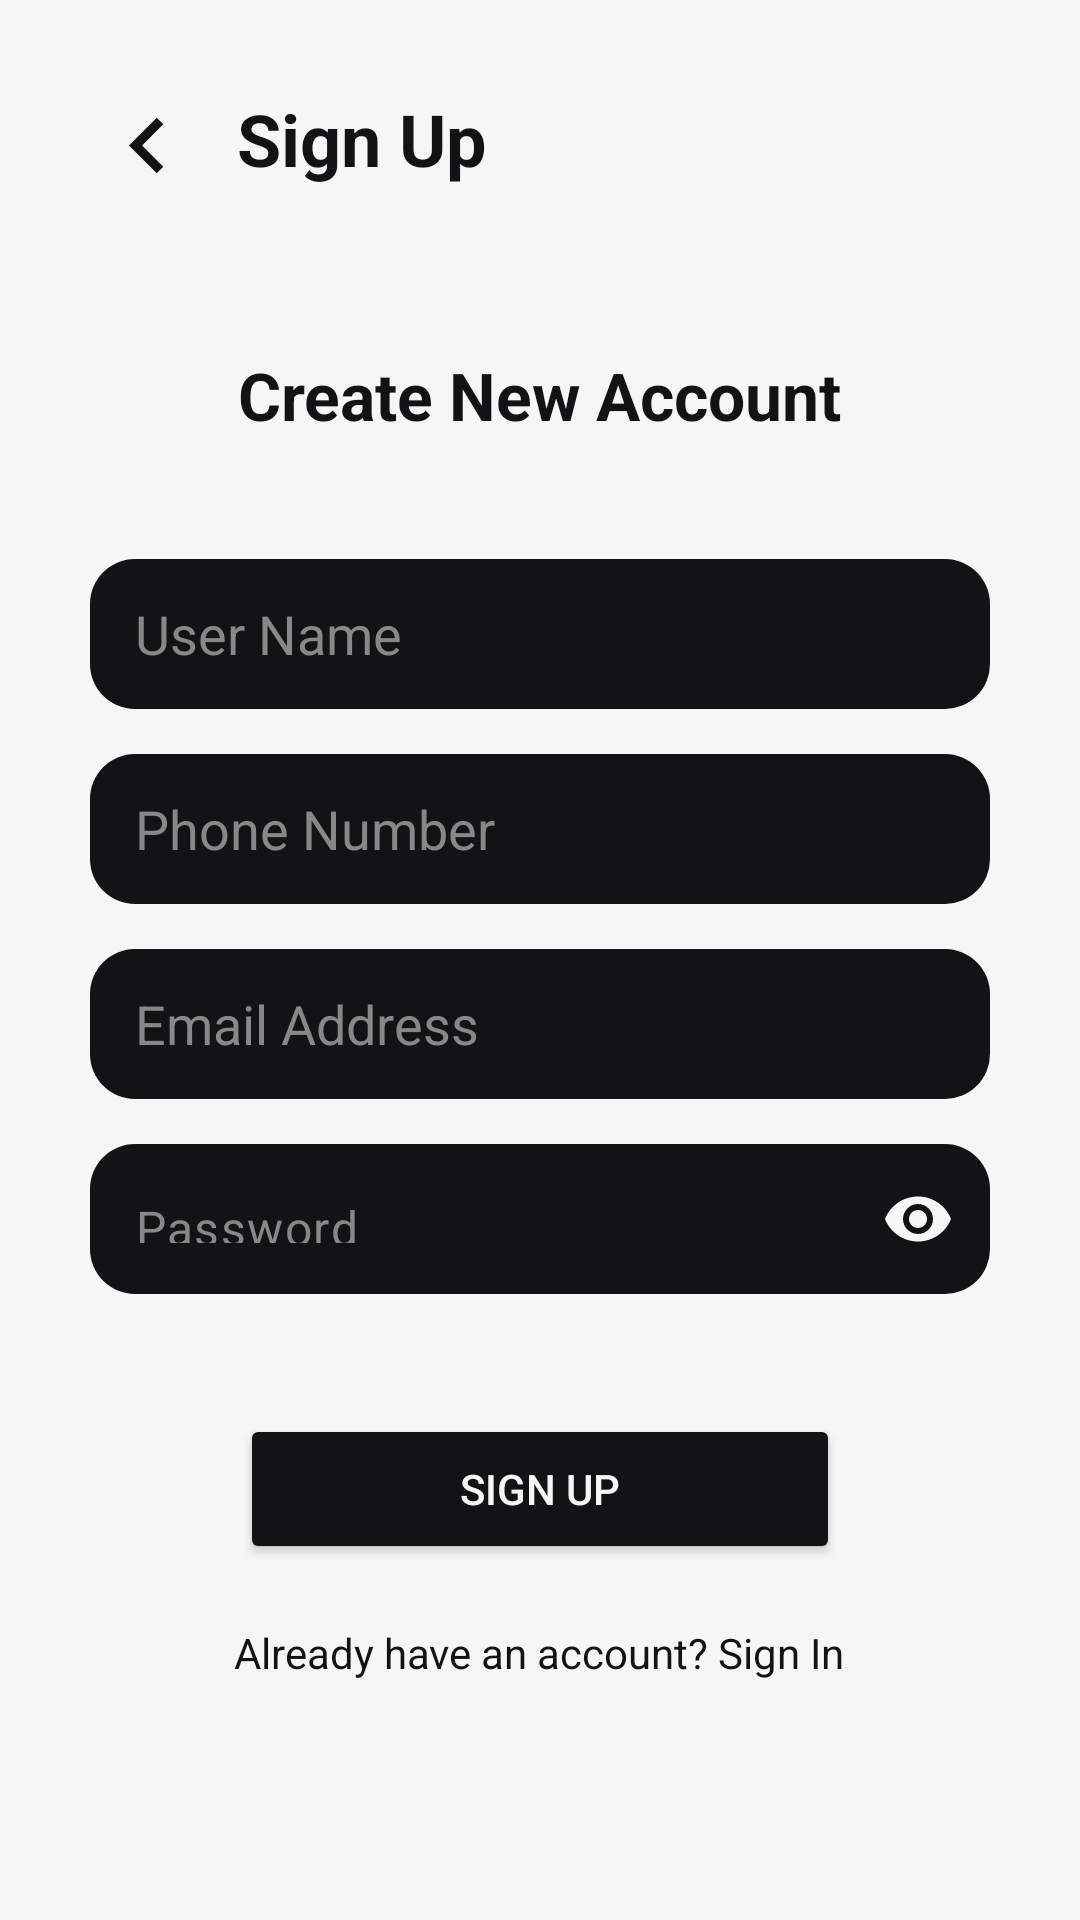

Icon bounding boxes for this 1080px×1920px phone screenshot, format (x1, y1, x2, y2):
arrow left: (129, 118, 163, 173)
